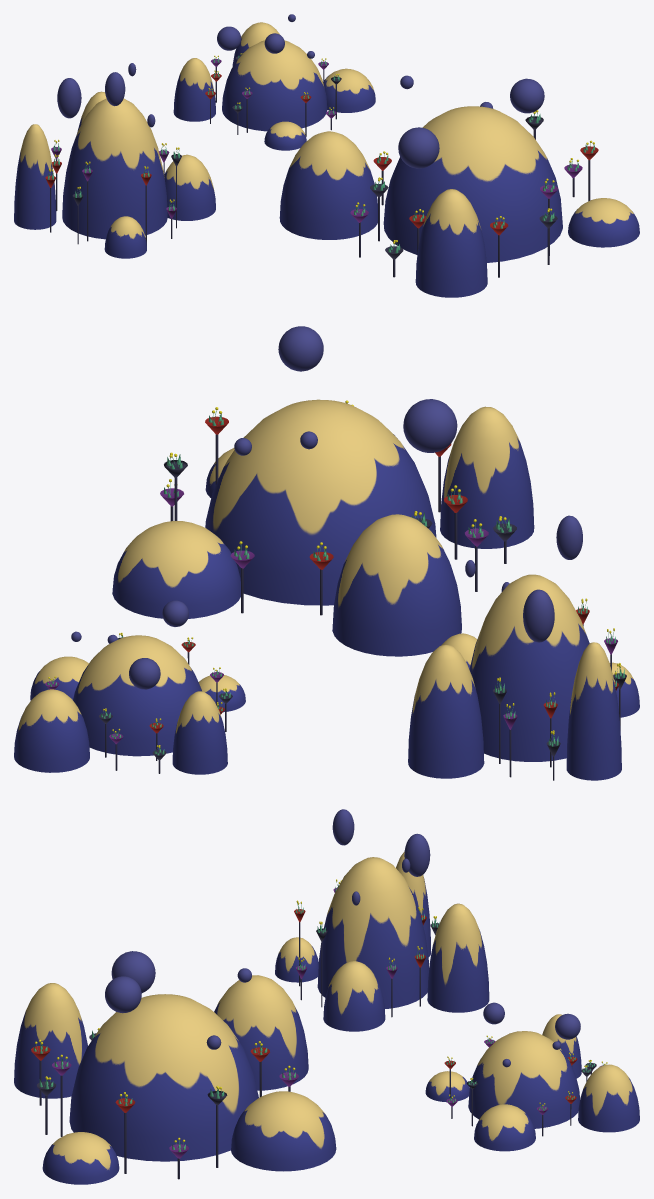
The model's file is grass_sphere.glb.
3 views of the same model, one above another, from view 1: azimuth 30°, elevation 25°; view 2: azimuth 150°, elevation 25°; view 3: azimuth 270°, elevation 25° (orthographic). The views are drawn at different scales.
Visible parts, largest first — view 1: Sphere.007; view 2: Sphere.007; view 3: Sphere.007.
Boxes of the visible parts, <box> form: Sphere.007: <box>14,14,639,297</box>; Sphere.007: <box>14,326,639,780</box>; Sphere.007: <box>14,809,639,1184</box>.
Size of the model in its own units: 24.09 by 8.02 by 26.41.
8 materials, 1 textured.
